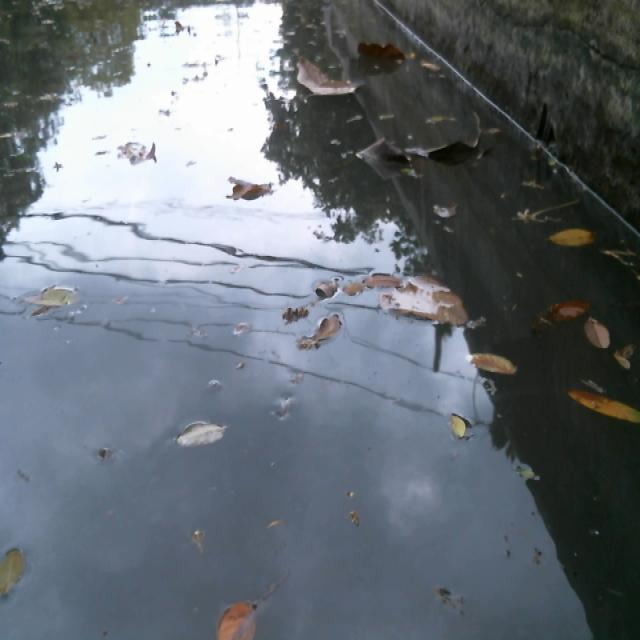Big-leaf: (365, 256, 473, 335), (405, 114, 495, 172), (288, 47, 363, 107), (352, 131, 412, 181), (355, 37, 421, 66)
Small-leaf: (564, 383, 640, 435), (211, 590, 264, 640), (512, 193, 585, 226), (528, 292, 585, 334), (464, 346, 522, 387), (20, 284, 86, 319), (175, 416, 232, 451), (301, 312, 346, 352), (0, 544, 30, 600), (120, 134, 163, 173), (226, 171, 271, 207), (442, 405, 478, 444), (546, 225, 598, 249), (428, 198, 462, 234), (582, 314, 613, 352), (305, 272, 339, 305), (339, 272, 367, 299), (614, 339, 639, 369), (174, 14, 195, 42)
